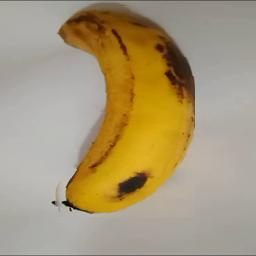Banana Semifresh: (45, 4, 195, 217)
